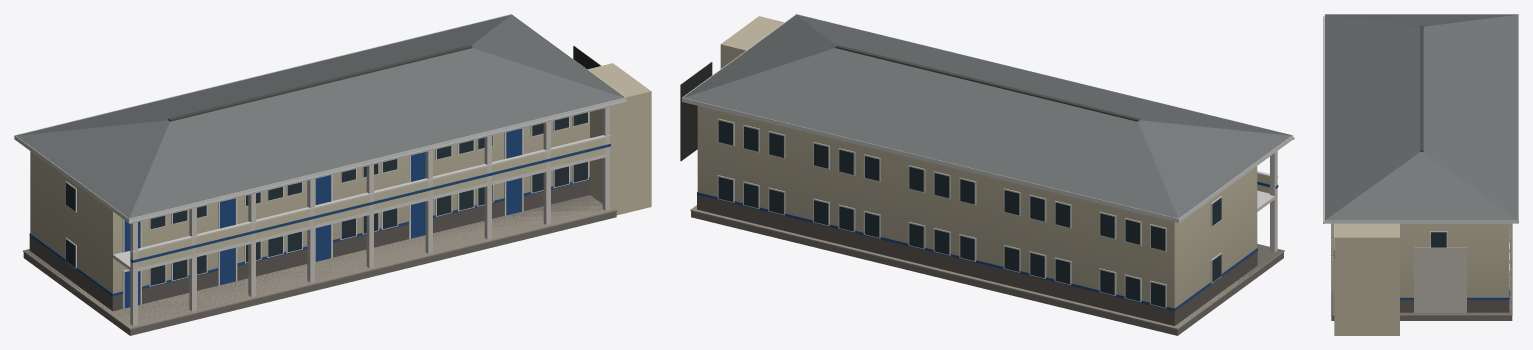
The model's file is ns_school2_lod1.glb.
3 views of the same model, side by side, from view 1: azimuth 30°, elevation 25°; view 2: azimuth 150°, elevation 25°; view 3: azimuth 270°, elevation 25° (orthographic). The views are drawn at different scales.
Parts seen in each view (by area): view 1: ns_school2_lod1; view 2: ns_school2_lod1; view 3: ns_school2_lod1.
Boxes of the visible parts, x1,y1,x2,y2 form: ns_school2_lod1: (14,14,651,335); ns_school2_lod1: (680,14,1294,335); ns_school2_lod1: (1323,14,1518,335).
Size of the model in its own units: 33.31 by 9.32 by 12.56.
